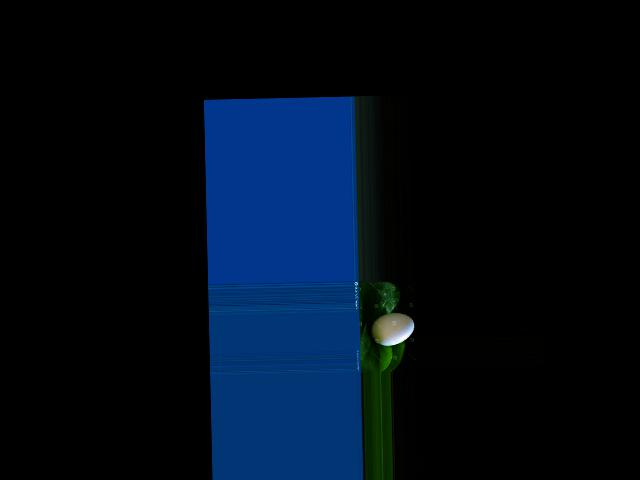egg: (370, 312, 414, 346)
